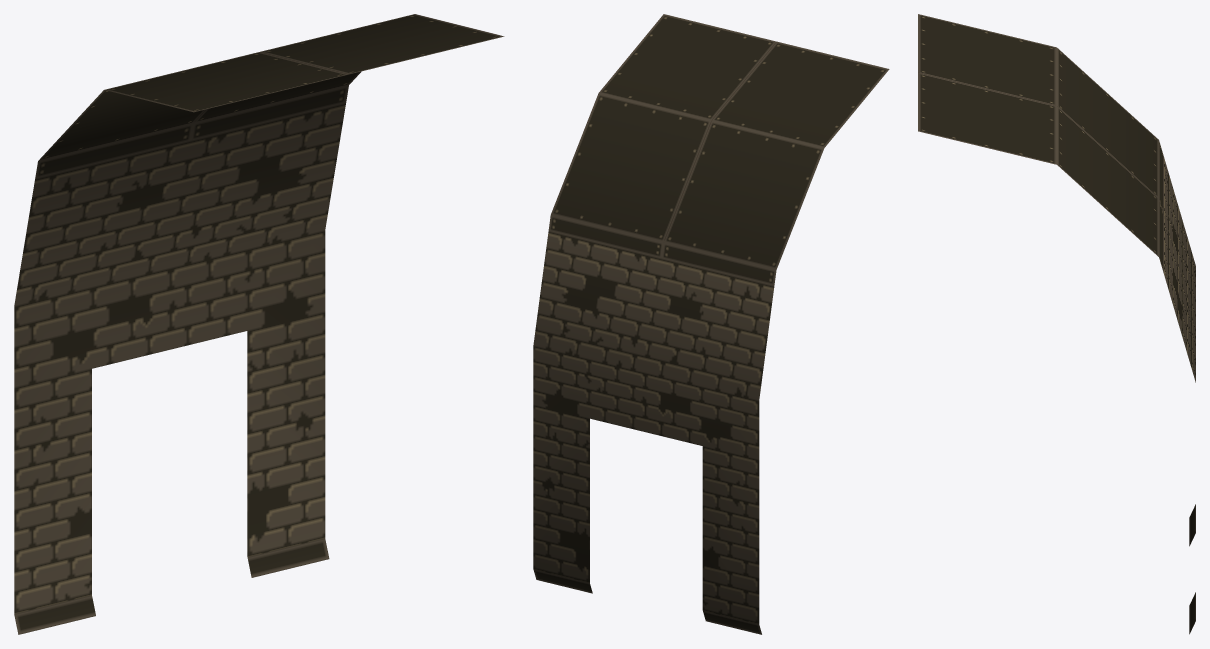
Rendered from Entrance.fbx.
The picture shows the model from 3 angles, left to right: view 1: azimuth 30°, elevation 25°; view 2: azimuth 150°, elevation 25°; view 3: azimuth 270°, elevation 25°; orthographic projection. The views are drawn at different scales.
Parts seen in each view (by area): view 1: Entrance; view 2: Entrance; view 3: Entrance.
Boxes of the visible parts, left/top/right/bottom form: Entrance: left=14, top=14, right=504, bottom=634; Entrance: left=533, top=14, right=889, bottom=634; Entrance: left=918, top=14, right=1195, bottom=634.
Bounding box in the file's own units: 400 × 800 × 400.
